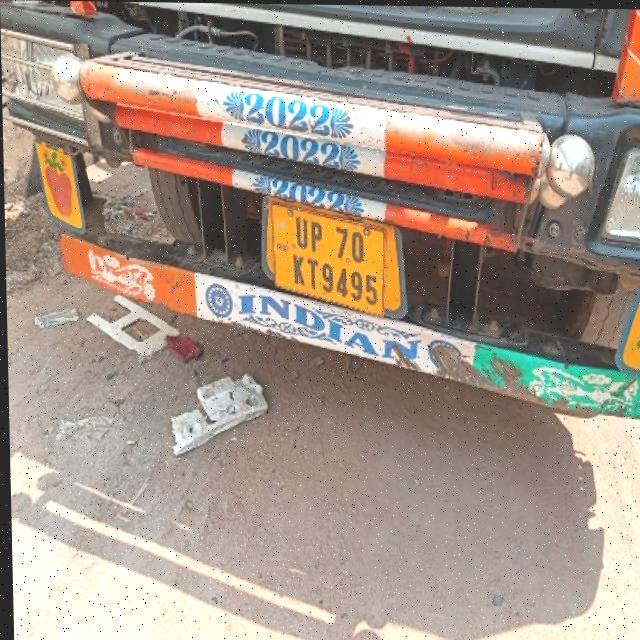plate: (265, 188, 392, 322)
